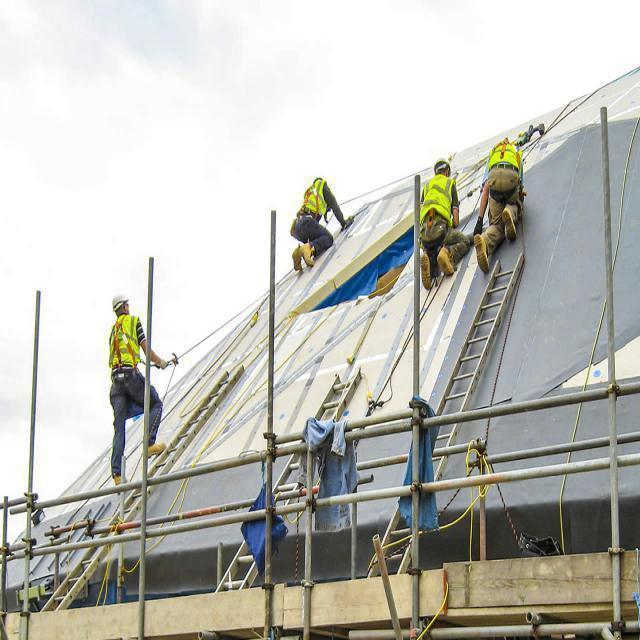10: (105, 291, 178, 496), (471, 122, 543, 276), (408, 156, 466, 288), (286, 174, 355, 276)
11: (105, 317, 145, 371), (416, 178, 458, 227), (484, 144, 525, 174), (297, 183, 334, 215)
2: (430, 153, 453, 175), (113, 296, 130, 320)
helmet_white: (474, 234, 491, 275), (437, 246, 457, 278), (501, 208, 517, 241), (417, 255, 431, 289), (143, 438, 164, 460), (300, 242, 315, 269), (288, 248, 303, 272), (300, 246, 315, 268)
